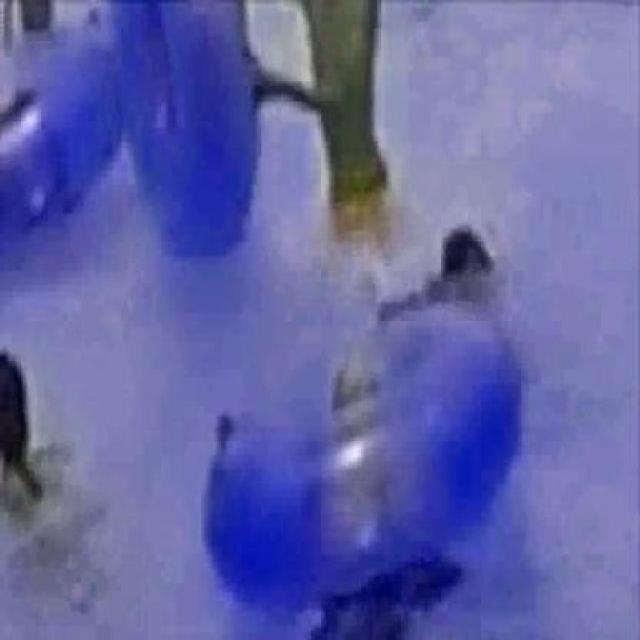drowning: (390, 194, 544, 340)
